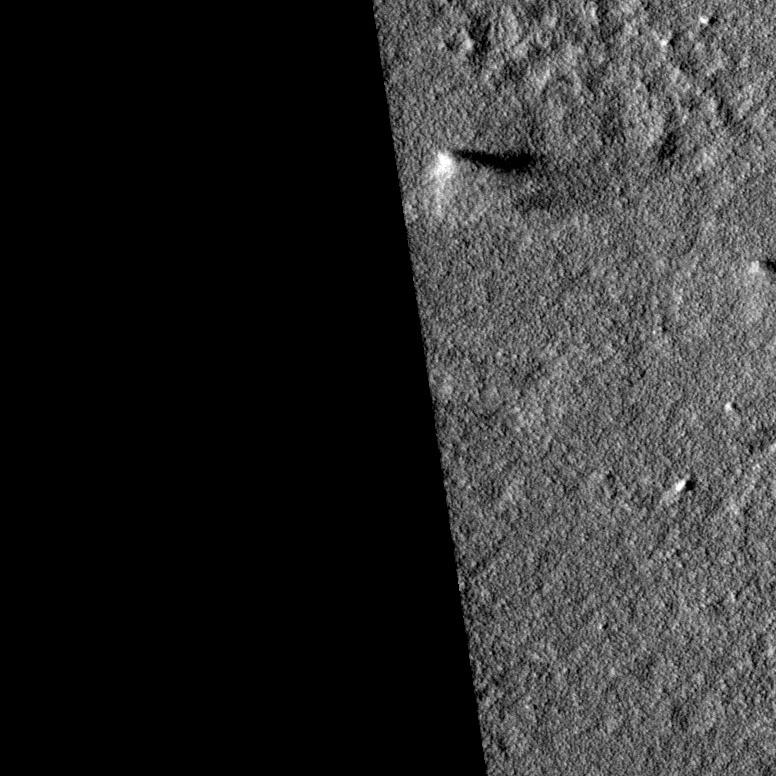dust_devil: (430, 143, 538, 190), (747, 258, 776, 277)
